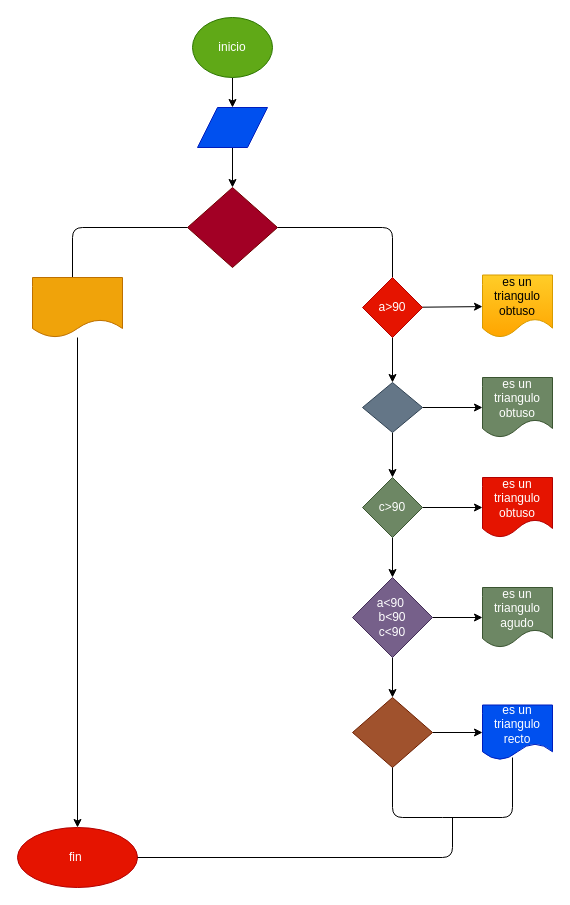
Image size: 570x905. Some labels were removed from this diagram. The box of each missing label's shape, as (x1, y1, x2, y2) in pixels:
a+b+c=180: (186, 186, 278, 268)
a,b,c: (196, 106, 268, 148)
a=b: (352, 696, 432, 768)
b>90: (362, 382, 422, 432)
la suma es menor a 180: (32, 276, 122, 338)
